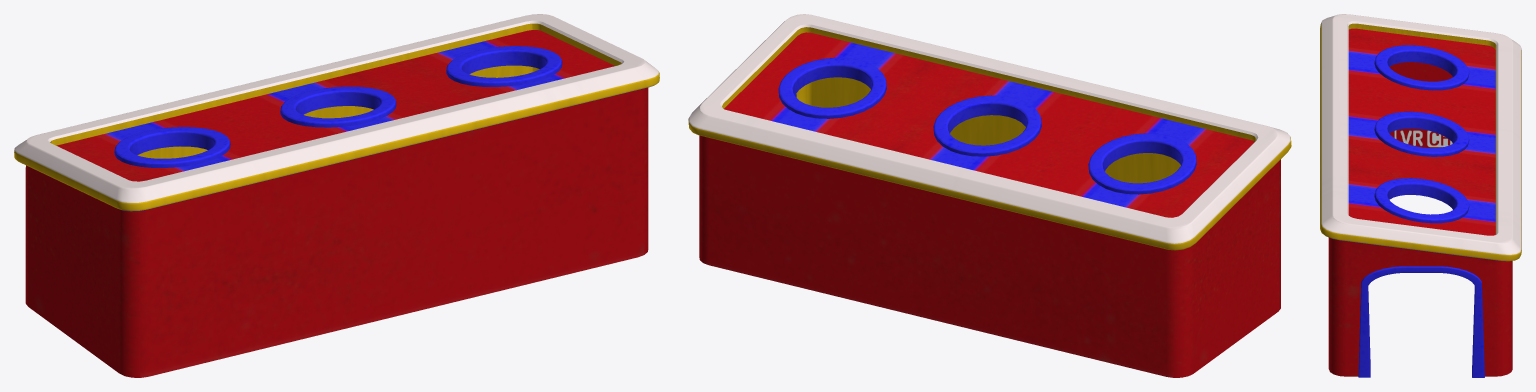
File: bop_frame.fbx
3 views of the same model, side by side, from view 1: azimuth 30°, elevation 25°; view 2: azimuth 150°, elevation 25°; view 3: azimuth 270°, elevation 25° (orthographic). The views are drawn at different scales.
Visible parts, largest first — view 1: bop_frame; view 2: bop_frame; view 3: bop_frame.
Part boxes in pixels (bbox=[...]): bop_frame: bbox=[14, 14, 659, 377]; bop_frame: bbox=[688, 14, 1291, 377]; bop_frame: bbox=[1320, 14, 1521, 377].
Size of the model in its own units: 3.25 by 1.08 by 1.28.
1 material, 1 textured.
